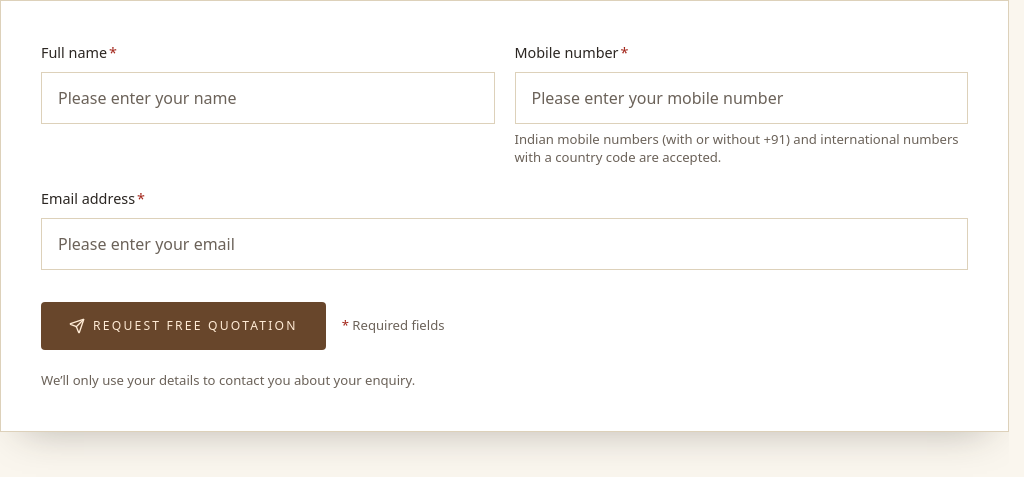
Test: failure handling and duplicate protection › prevents duplicate submissions while a request is in flight
Type "Test Customer" into the field labelled "Full name*" at (268, 98), box [41,72,494,124]
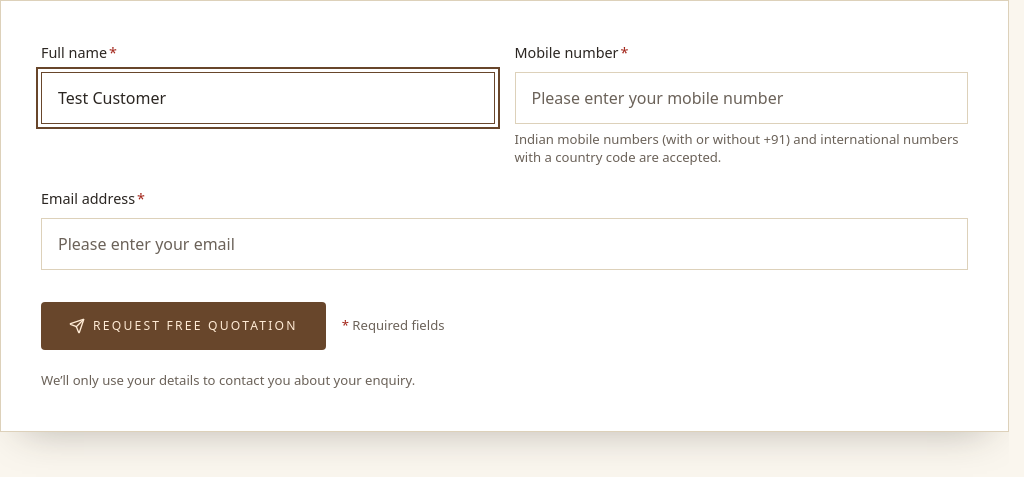
Type "99496 21569" into the field labelled "Mobile number*" at (741, 98), box [514,72,968,124]
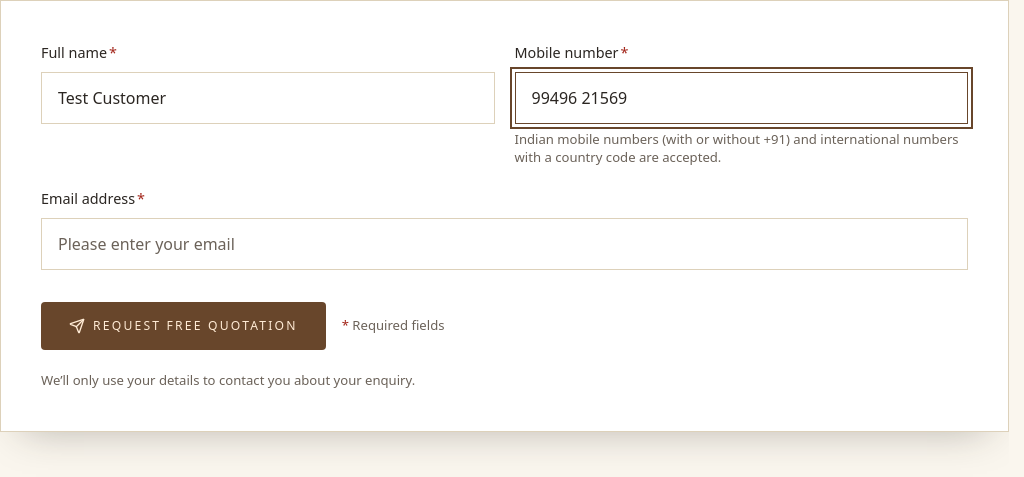
Type "test.customer@example.com" into the field labelled "Email address*" at (504, 244), box [41,218,968,270]
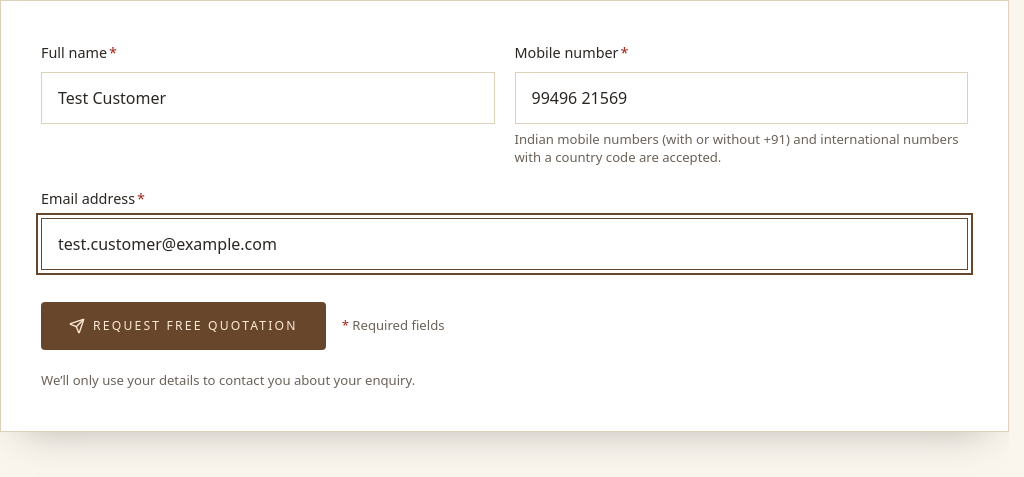
Double-click the button "Request free quotation" at (183, 326), box [41,302,326,350]
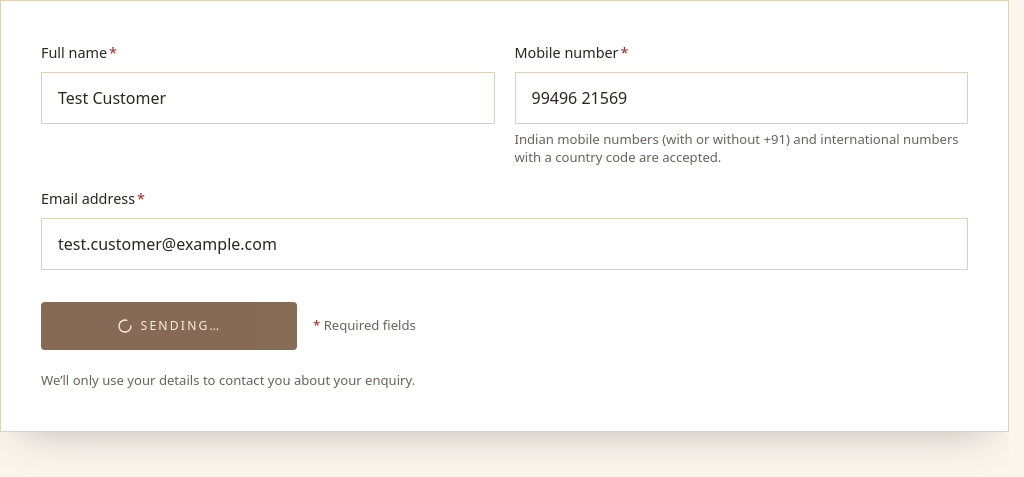
Submit the form with test id "quotation-form"
Submit the form with test id "quotation-form"
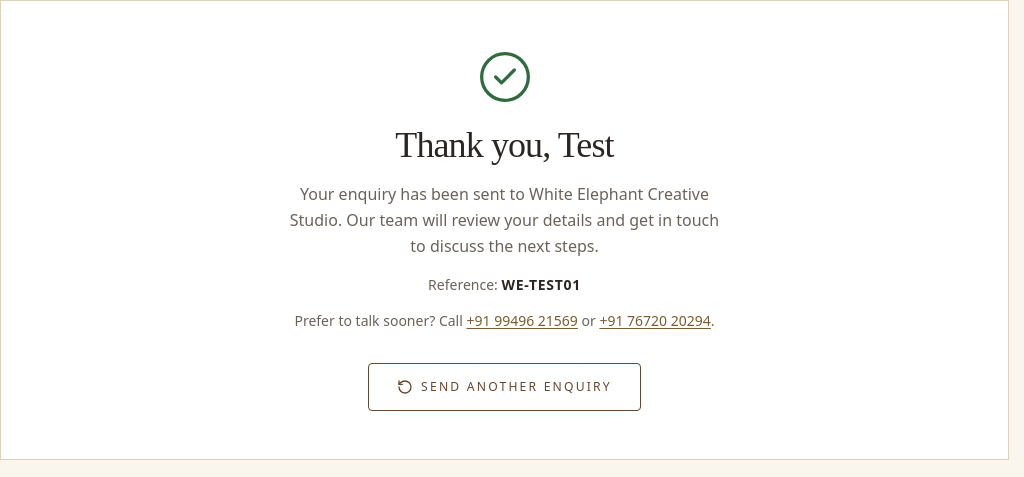
Expected: the element with test id "quotation-success" is shown
